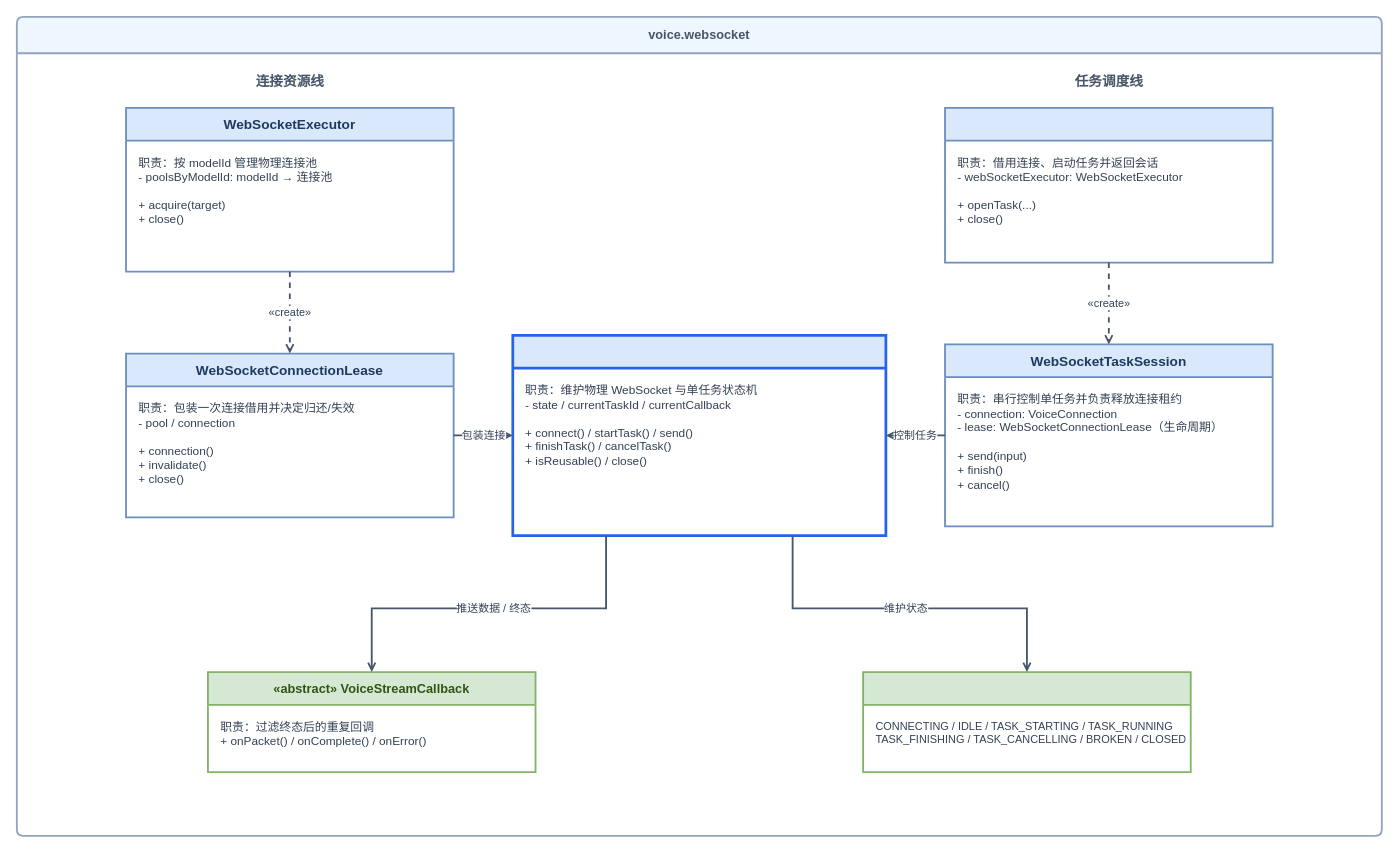
The diagram is 1398 pixels wide and 852 high, and some of its shapes have lost their labels. Here are the shapes that lost their labels. From the top down, the box of each, then its label:
(944, 106, 1273, 263): WebSocketTaskExecutor
(511, 334, 887, 536): «abstract» VoiceConnection
(862, 671, 1191, 773): «enum» VoiceConnectionState
